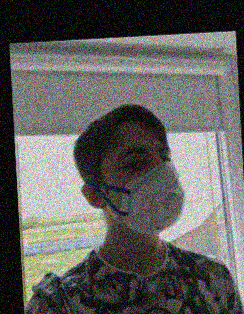with_mask: (111, 134, 183, 234)
